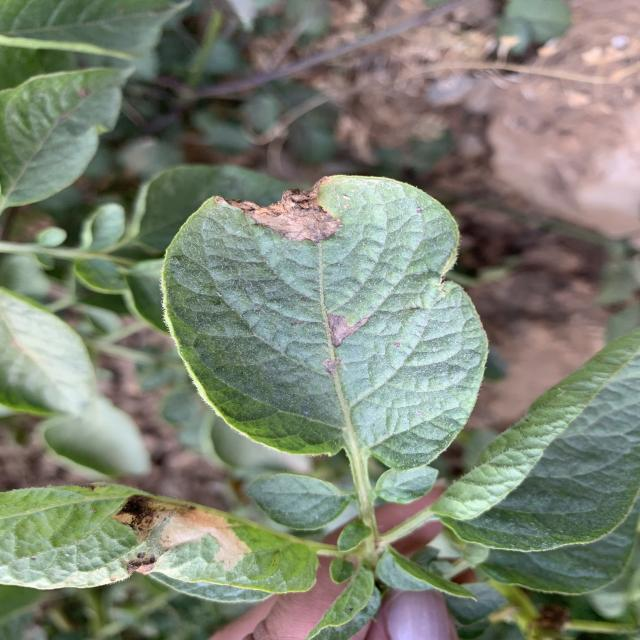lateblight: (215, 178, 343, 244), (322, 309, 373, 348)
